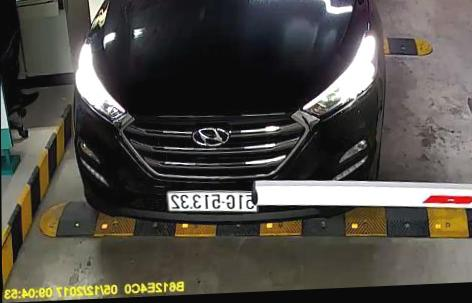License_Plate: (164, 186, 262, 218)
